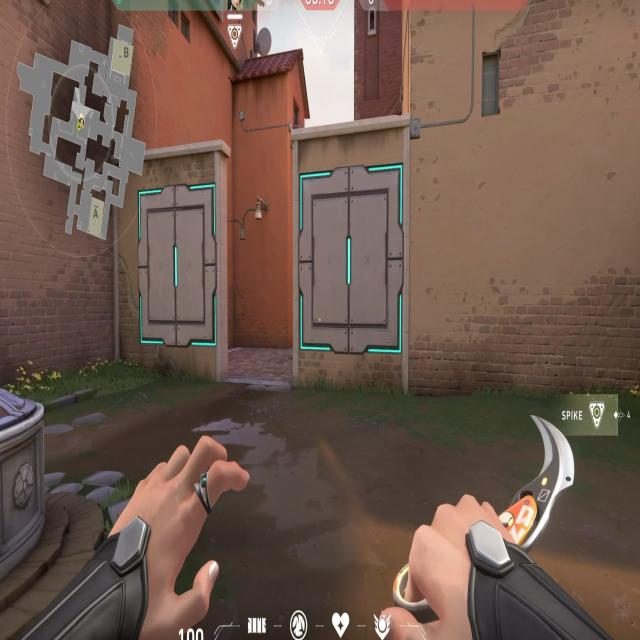Mid_Wall: (291, 147, 410, 382), (126, 158, 230, 362)
